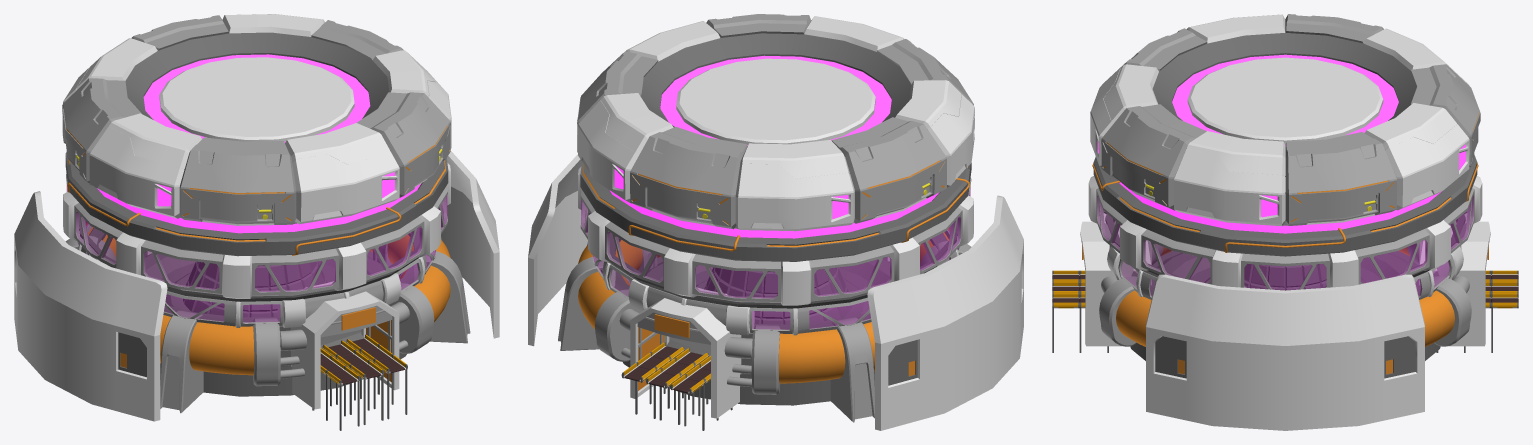
The model's file is FusionReactor.fbx.
The picture shows the model from 3 angles, left to right: view 1: azimuth 30°, elevation 25°; view 2: azimuth 150°, elevation 25°; view 3: azimuth 270°, elevation 25°; orthographic projection. The views are drawn at different scales.
Parts seen in each view (by area): view 1: fusion_reactor_top, fusion_reactor_side, fusion_reactor_top_window_frame, fusion_reactor_middle, fusion_reactor_lower.002, fusion_reactor_lower, fusion_reactor_top_window, fusion_reactor_center_entry, fusion_reactor_center_base, fusion_reactor_lower_window_frame, fusion_reactor_center, fusion_reactor_lower_window (+1 smaller); view 2: fusion_reactor_top, fusion_reactor_side, fusion_reactor_top_window_frame, fusion_reactor_middle, fusion_reactor_lower.002, fusion_reactor_lower, fusion_reactor_top_window, fusion_reactor_center_entry.001, fusion_reactor_center_base, fusion_reactor_lower_window_frame, fusion_reactor_center, fusion_reactor_lower_window (+1 smaller); view 3: fusion_reactor_top, fusion_reactor_side, fusion_reactor_top_window_frame, fusion_reactor_middle, fusion_reactor_top_window, fusion_reactor_lower, fusion_reactor_lower.002, fusion_reactor_center_entry, fusion_reactor_center_entry.001, fusion_reactor_center_base, fusion_reactor_lower_window_frame, fusion_reactor_center (+1 smaller).
Part boxes in pixels (x1=…): fusion_reactor_top: x1=62, y1=14, x2=451, y2=233; fusion_reactor_side: x1=14, y1=151, x2=499, y2=421; fusion_reactor_top_window_frame: x1=63, y1=163, x2=450, y2=298; fusion_reactor_middle: x1=65, y1=152, x2=448, y2=256; fusion_reactor_lower.002: x1=65, y1=221, x2=470, y2=413; fusion_reactor_lower: x1=86, y1=223, x2=450, y2=378; fusion_reactor_top_window: x1=66, y1=184, x2=447, y2=291; fusion_reactor_center_entry: x1=291, y1=281, x2=399, y2=409; fusion_reactor_center_base: x1=89, y1=227, x2=428, y2=396; fusion_reactor_lower_window_frame: x1=77, y1=214, x2=436, y2=327; fusion_reactor_center: x1=183, y1=162, x2=326, y2=317; fusion_reactor_lower_window: x1=78, y1=222, x2=435, y2=322; fusion_reactor_top: x1=577, y1=14, x2=974, y2=238; fusion_reactor_side: x1=528, y1=154, x2=1023, y2=430; fusion_reactor_top_window_frame: x1=578, y1=166, x2=973, y2=305; fusion_reactor_middle: x1=580, y1=156, x2=971, y2=261; fusion_reactor_lower.002: x1=558, y1=226, x2=971, y2=422; fusion_reactor_lower: x1=578, y1=227, x2=950, y2=387; fusion_reactor_top_window: x1=581, y1=187, x2=970, y2=298; fusion_reactor_center_entry.001: x1=630, y1=287, x2=741, y2=418; fusion_reactor_center_base: x1=601, y1=232, x2=947, y2=405; fusion_reactor_lower_window_frame: x1=593, y1=218, x2=959, y2=335; fusion_reactor_center: x1=704, y1=267, x2=851, y2=324; fusion_reactor_lower_window: x1=593, y1=227, x2=958, y2=329; fusion_reactor_top: x1=1090, y1=14, x2=1480, y2=233; fusion_reactor_side: x1=1146, y1=274, x2=1424, y2=430; fusion_reactor_top_window_frame: x1=1088, y1=176, x2=1482, y2=289; fusion_reactor_middle: x1=1092, y1=155, x2=1478, y2=256; fusion_reactor_top_window: x1=1097, y1=197, x2=1473, y2=290; fusion_reactor_lower: x1=1101, y1=247, x2=1469, y2=346; fusion_reactor_lower.002: x1=1099, y1=244, x2=1471, y2=346; fusion_reactor_center_entry: x1=1080, y1=221, x2=1151, y2=346; fusion_reactor_center_entry.001: x1=1419, y1=221, x2=1490, y2=346; fusion_reactor_center_base: x1=1130, y1=251, x2=1440, y2=360; fusion_reactor_lower_window_frame: x1=1105, y1=214, x2=1465, y2=299; fusion_reactor_center: x1=1244, y1=176, x2=1326, y2=290.
Size of the model in its own units: 17.79 by 10.15 by 17.
